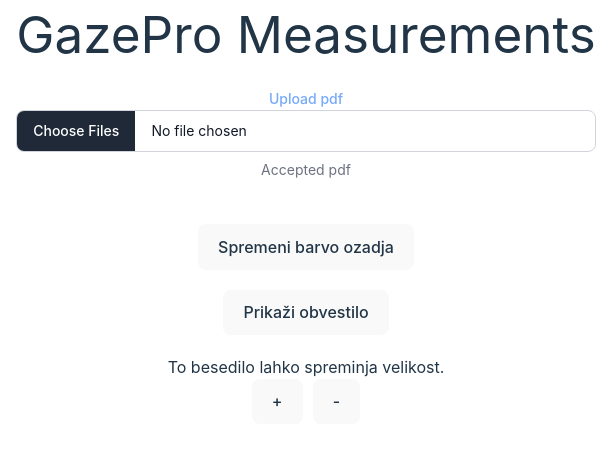
Test: App osnovne interakcije › gumb za prikaz/skritje obvestila deluje
Step 1. Click the button "Prikaži obvestilo" → (306,312), box 223,290 -> 389,335
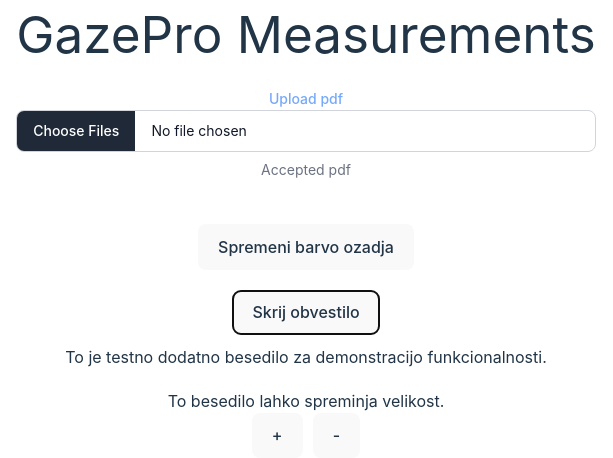
Now the text "testno dodatno besedilo" is shown, box 65,347 -> 547,367
Step 2. Click the button named "prikaži obvestilo" → (306,312), box 232,290 -> 380,335
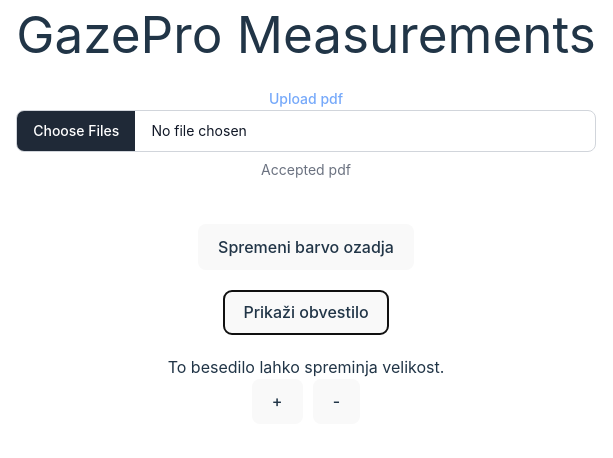
Now the text "testno dodatno besedilo" is gone
